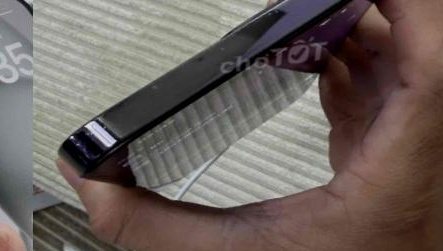scratch: (191, 7, 289, 55), (61, 111, 142, 164), (146, 78, 173, 96)
